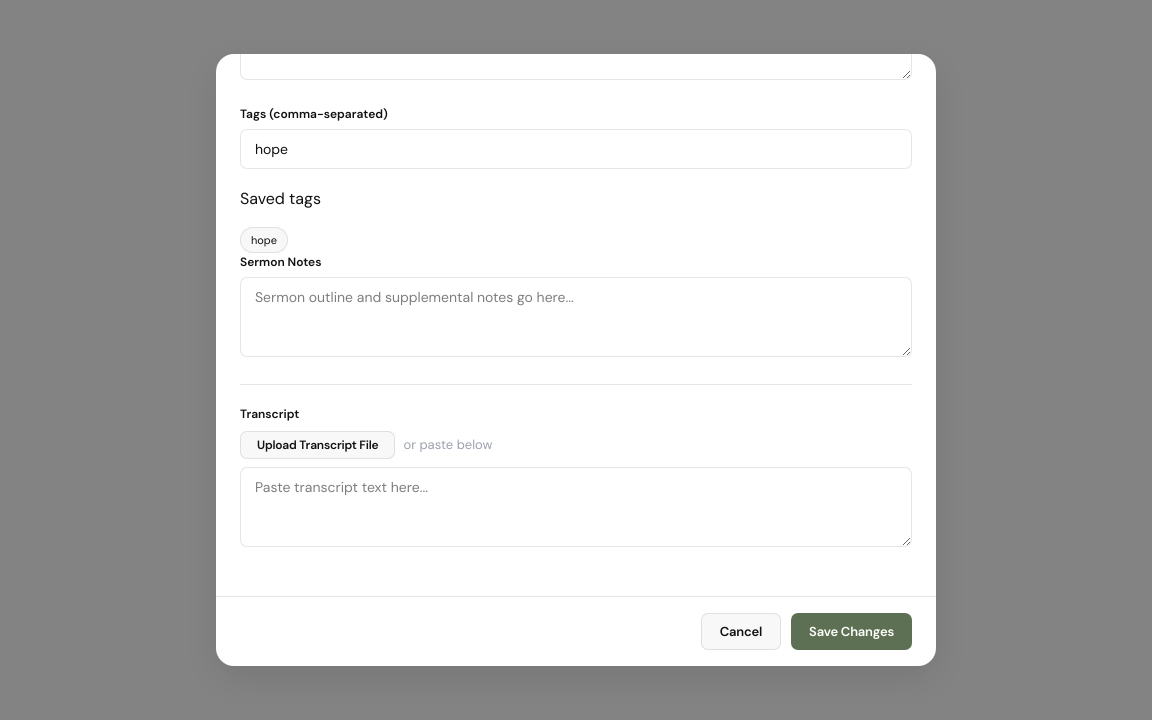
Test case: edit does not invalidate dashboard or list caches when the API rejects the change
The image size is (1152, 720).
(page scrolled)
Click the button "Save Changes". click: x=852, y=632
box: x1=791 y1=613 x2=912 y2=650
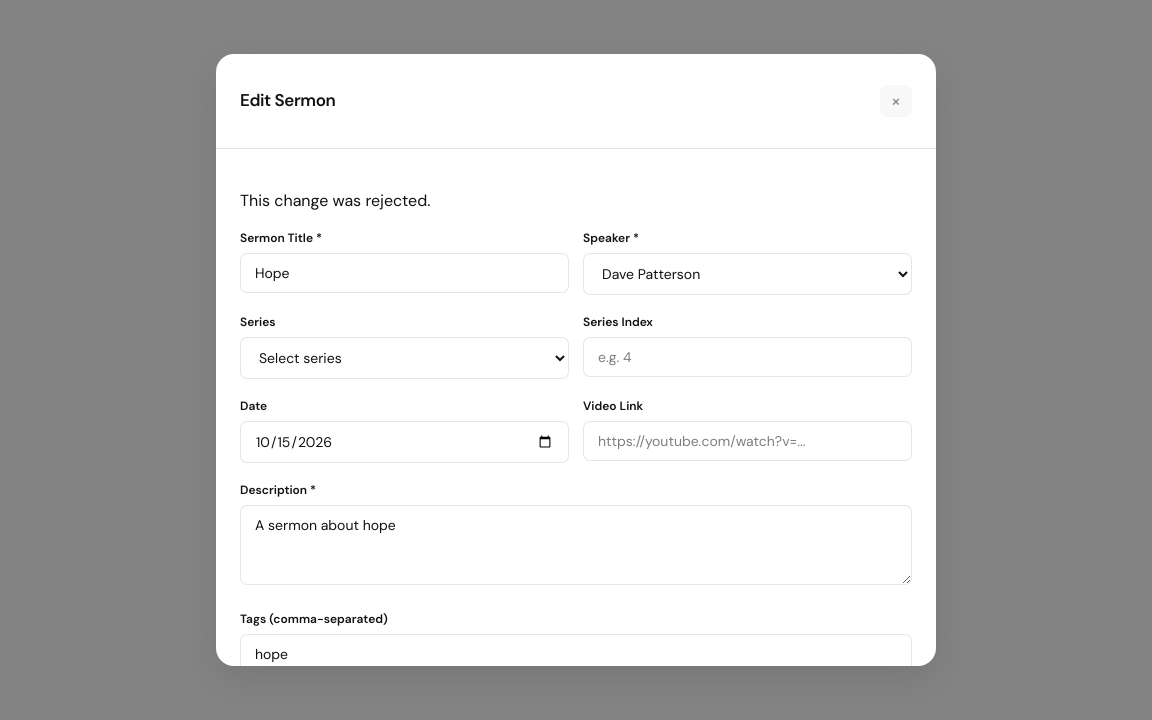
Now the message reads "This change was rejected.", box x1=240 y1=190 x2=430 y2=211
